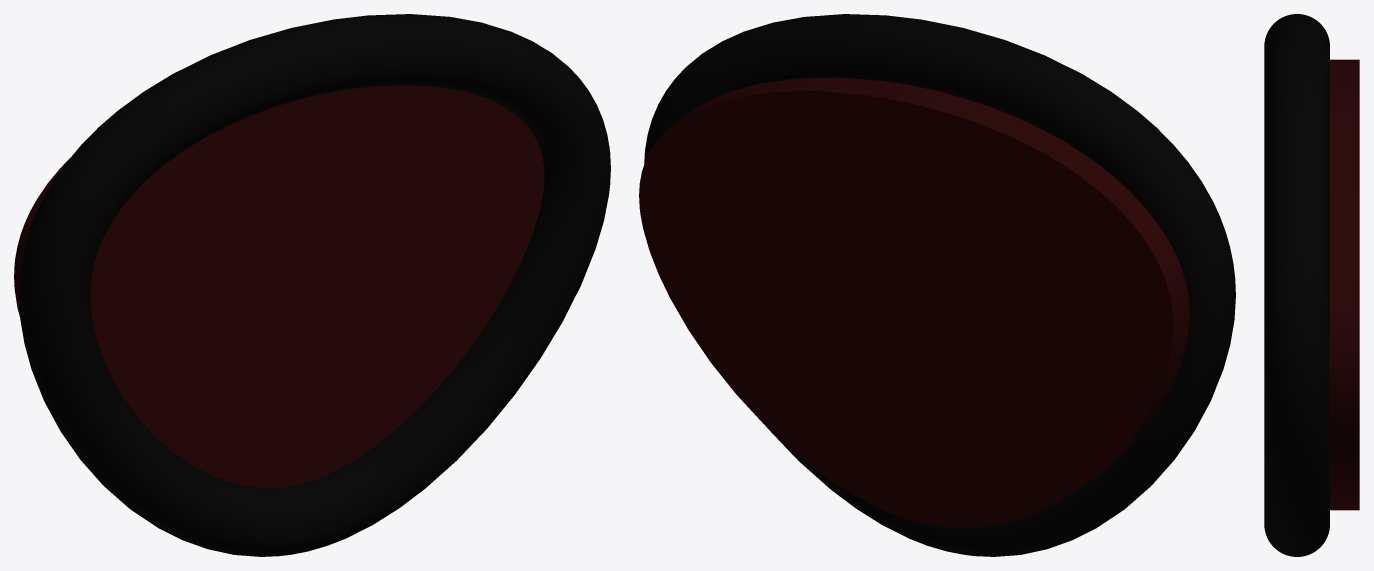
The model's file is oMouth1.dae.
The picture shows the model from 3 angles, left to right: view 1: azimuth 30°, elevation 25°; view 2: azimuth 150°, elevation 25°; view 3: azimuth 270°, elevation 25°; orthographic projection. The views are drawn at different scales.
Visible parts, largest first — view 1: Sweep_NURBS.1; view 2: Sweep_NURBS.1; view 3: Sweep_NURBS.1.
Part boxes in pixels (bbox=[...]): Sweep_NURBS.1: bbox=[14, 14, 610, 556]; Sweep_NURBS.1: bbox=[639, 14, 1235, 556]; Sweep_NURBS.1: bbox=[1264, 14, 1359, 556].
Size of the model in its own units: 18.91 by 16.09 by 2.9.
